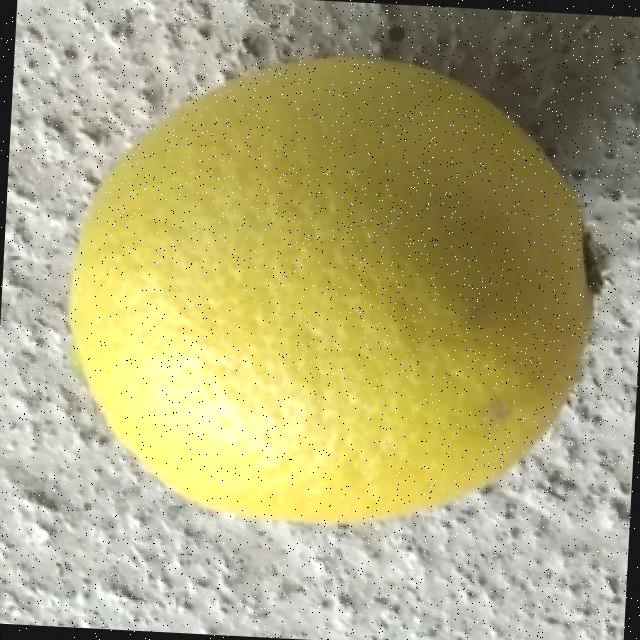Ripe: (51, 33, 624, 547)
